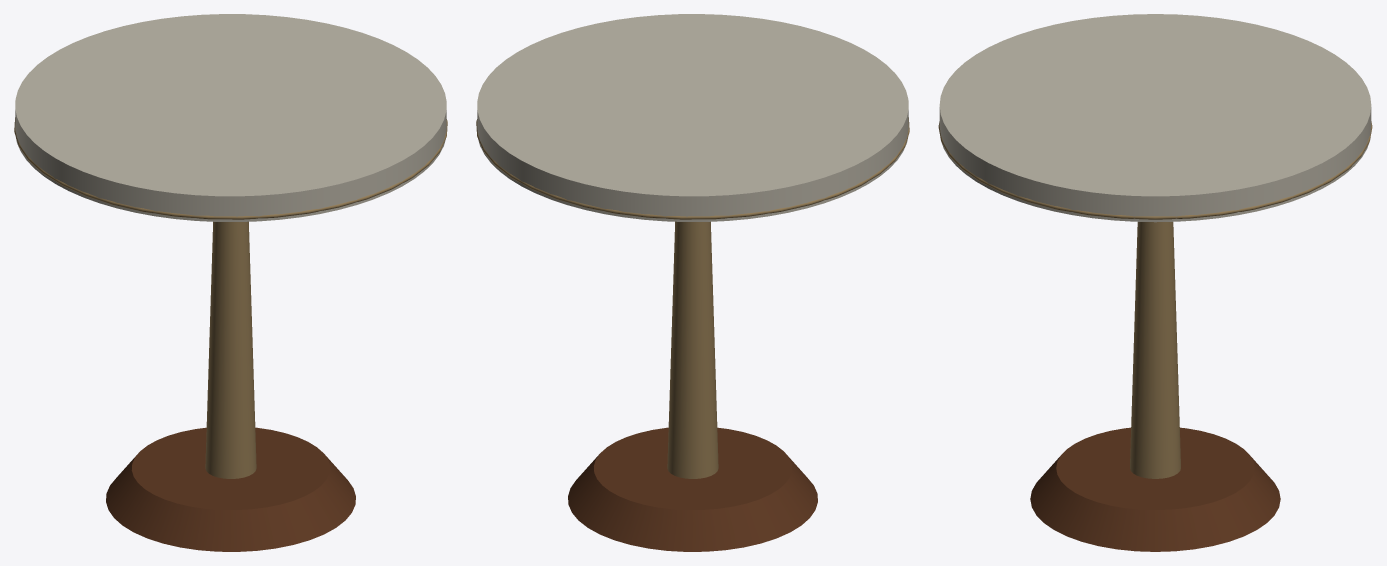
The model's file is rear-drinks-table.glb.
The picture shows the model from 3 angles, left to right: view 1: azimuth 30°, elevation 25°; view 2: azimuth 150°, elevation 25°; view 3: azimuth 270°, elevation 25°; orthographic projection.
Visible parts, largest first — view 1: part::rear-drinks-table/round-honed-top-001, part::rear-drinks-table/splayed-pedestal-foot-001, part::rear-drinks-table/tapered-pedestal-001, part::rear-drinks-table/brass-tabletop-reveal-001; view 2: part::rear-drinks-table/round-honed-top-001, part::rear-drinks-table/splayed-pedestal-foot-001, part::rear-drinks-table/tapered-pedestal-001, part::rear-drinks-table/brass-tabletop-reveal-001; view 3: part::rear-drinks-table/round-honed-top-001, part::rear-drinks-table/splayed-pedestal-foot-001, part::rear-drinks-table/tapered-pedestal-001, part::rear-drinks-table/brass-tabletop-reveal-001.
Boxes of the visible parts, x1=… form: part::rear-drinks-table/round-honed-top-001: x1=15, y1=14, x2=446, y2=221; part::rear-drinks-table/splayed-pedestal-foot-001: x1=106, y1=427, x2=355, y2=551; part::rear-drinks-table/tapered-pedestal-001: x1=205, y1=221, x2=256, y2=478; part::rear-drinks-table/brass-tabletop-reveal-001: x1=14, y1=117, x2=447, y2=219; part::rear-drinks-table/round-honed-top-001: x1=477, y1=14, x2=908, y2=221; part::rear-drinks-table/splayed-pedestal-foot-001: x1=568, y1=427, x2=817, y2=551; part::rear-drinks-table/tapered-pedestal-001: x1=667, y1=221, x2=718, y2=478; part::rear-drinks-table/brass-tabletop-reveal-001: x1=476, y1=117, x2=909, y2=219; part::rear-drinks-table/round-honed-top-001: x1=939, y1=14, x2=1371, y2=222; part::rear-drinks-table/splayed-pedestal-foot-001: x1=1030, y1=427, x2=1280, y2=551; part::rear-drinks-table/tapered-pedestal-001: x1=1130, y1=222, x2=1180, y2=478; part::rear-drinks-table/brass-tabletop-reveal-001: x1=938, y1=121, x2=1372, y2=219.
Bounding box in the file's own units: 0.764 × 0.765 × 0.764.
